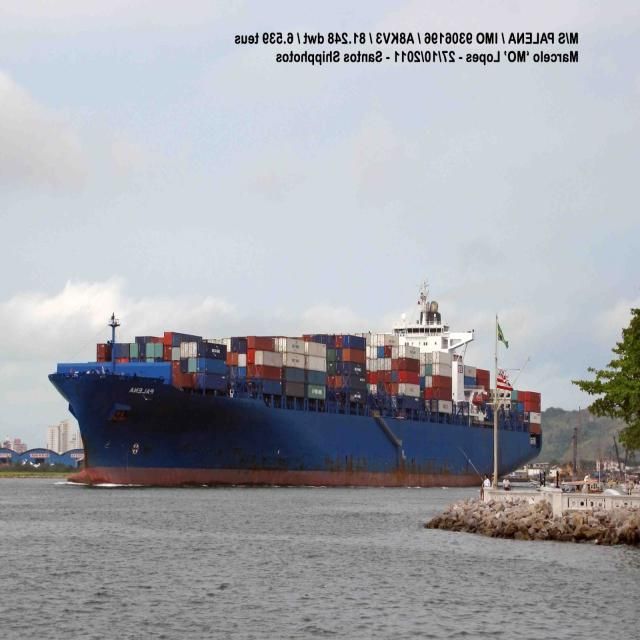Cargo: (49, 293, 492, 486), (497, 376, 540, 475)
